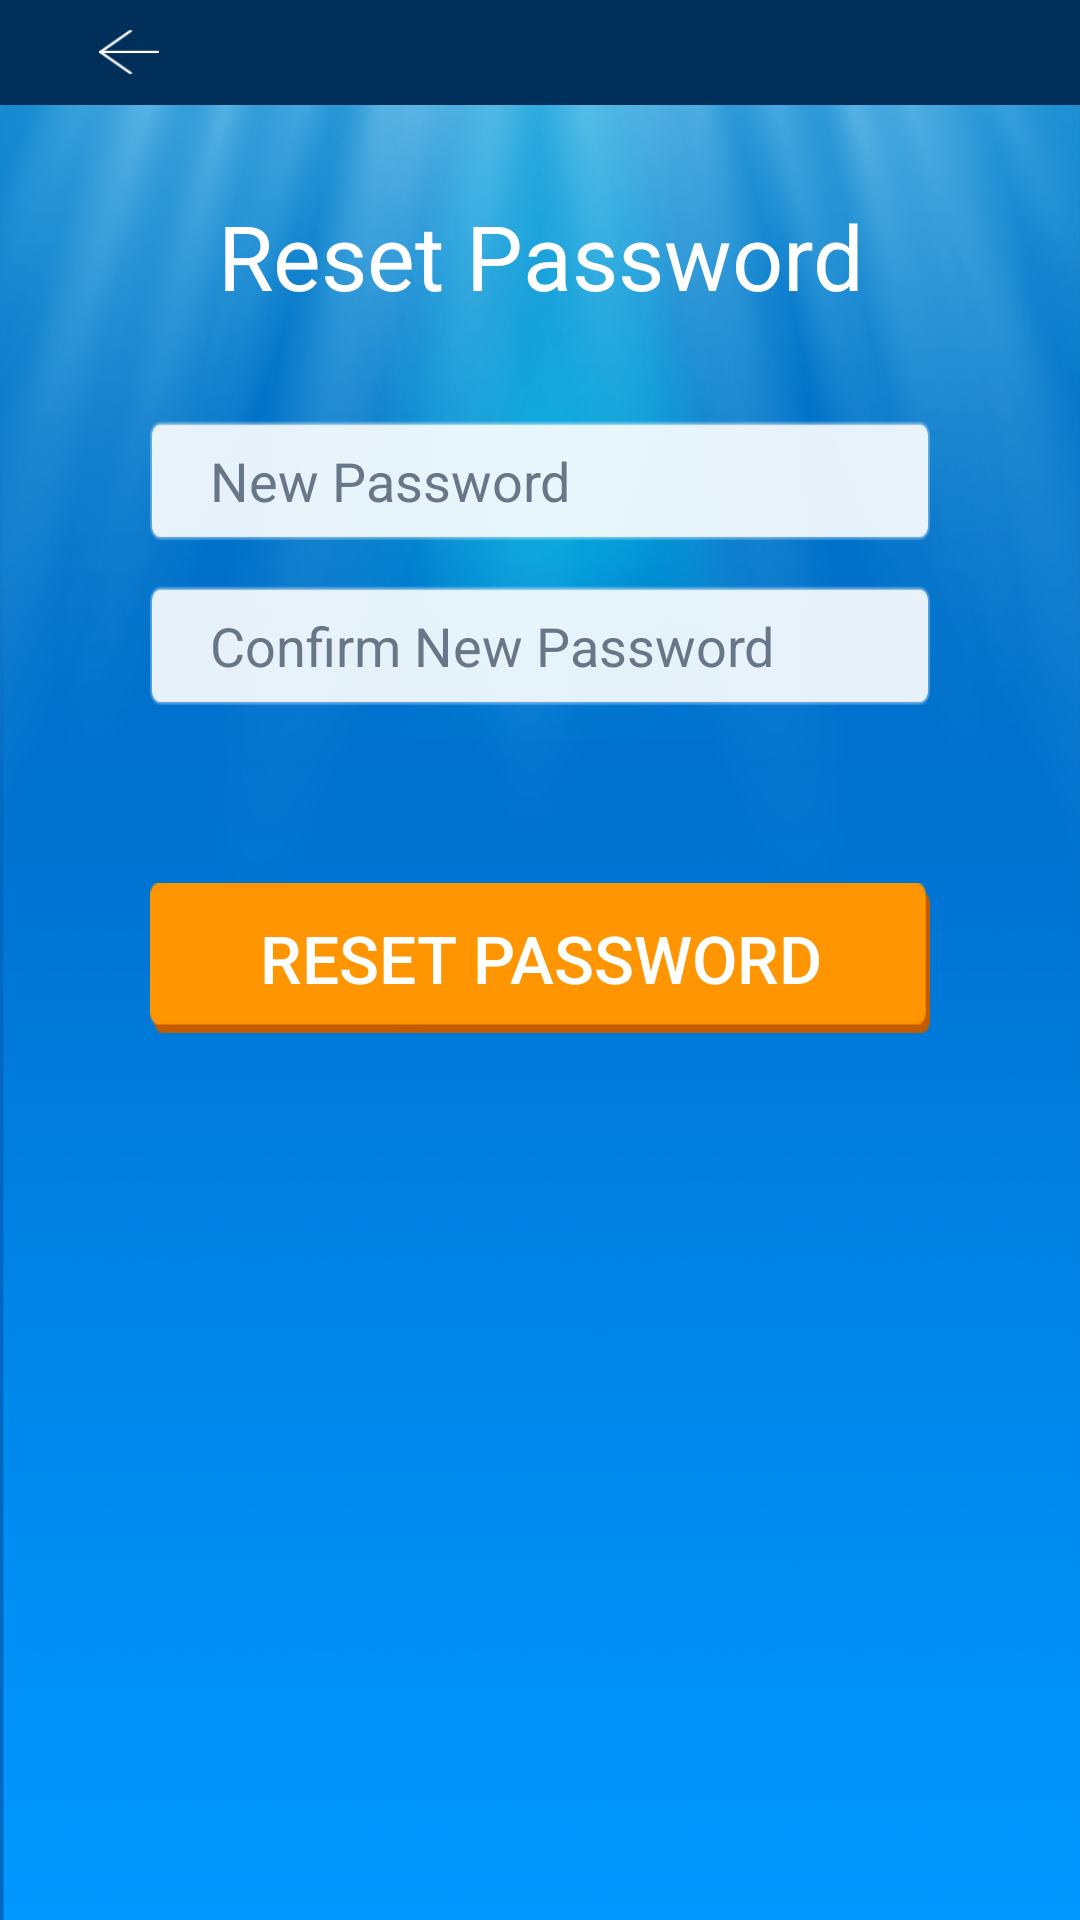

Locate icon controls on the screen. Image size 1080w x 1920h, boxes as (x1, y1, x2, y2).
left arrow: (99, 30, 159, 74)
